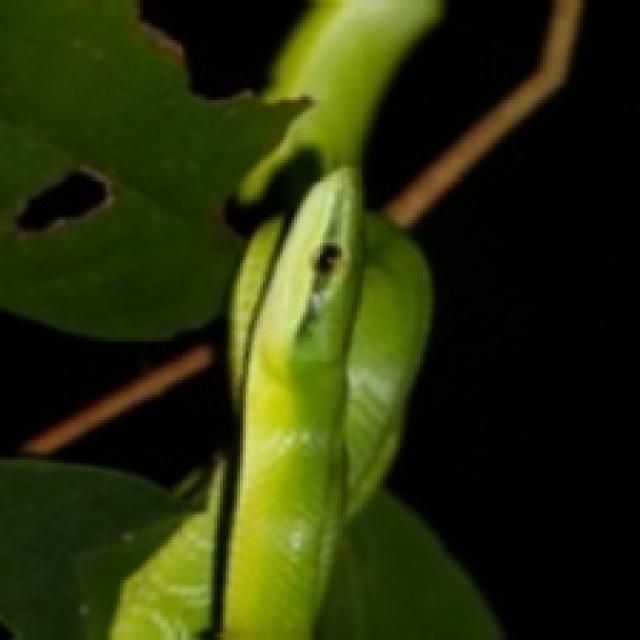red-tailed green ratsnake: (226, 0, 437, 637), (326, 497, 483, 637)
